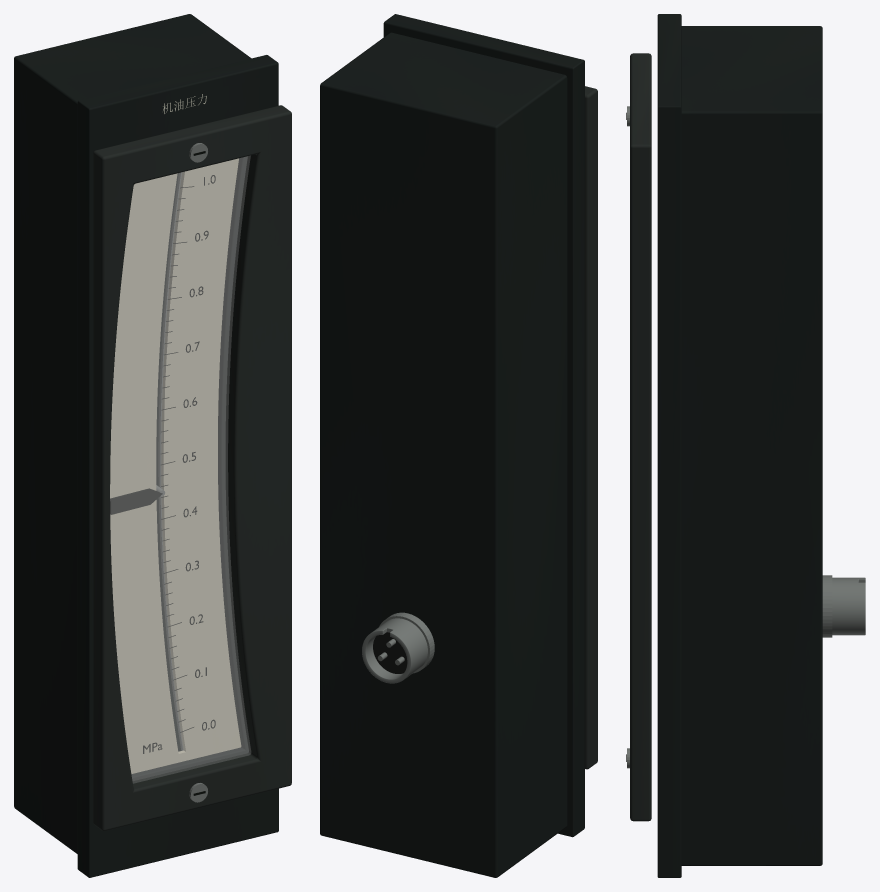
Rendered from oil_pressure_gauge_final.glb.
3 renders of one model, left to right at view 1: azimuth 30°, elevation 25°; view 2: azimuth 150°, elevation 25°; view 3: azimuth 270°, elevation 25°, orthographic.
Visible parts, largest first — view 1: Fixed_Protective_Glass, Fixed_Raised_Metal_Bezel, Fixed_Rear_Housing, Fixed_Scale_Window, Fixed_Front_Frame, Fixed_Curved_Guide_Rail.001, RPM_Reading_Head; view 2: Fixed_Rear_Housing, Fixed_Front_Frame, Fixed_Raised_Metal_Bezel, RPM_Connector_Shell, RPM_Recessed_Contact_Insert, RPM_Rear_Connector_Seat; view 3: Fixed_Rear_Housing, Fixed_Front_Frame, Fixed_Raised_Metal_Bezel, RPM_Connector_Shell, RPM_Rear_Connector_Seat.
Part boxes in pixels (x1,y1,x2,y2): Fixed_Protective_Glass: [110, 156, 250, 783]; Fixed_Raised_Metal_Bezel: [93, 105, 291, 830]; Fixed_Rear_Housing: [14, 14, 251, 853]; Fixed_Scale_Window: [110, 158, 241, 773]; Fixed_Front_Frame: [77, 55, 278, 877]; Fixed_Curved_Guide_Rail.001: [158, 172, 183, 750]; RPM_Reading_Head: [110, 488, 162, 514]; Fixed_Rear_Housing: [320, 32, 567, 877]; Fixed_Front_Frame: [383, 14, 584, 837]; Fixed_Raised_Metal_Bezel: [585, 86, 597, 769]; RPM_Connector_Shell: [362, 618, 427, 683]; RPM_Recessed_Contact_Insert: [373, 632, 407, 673]; RPM_Rear_Connector_Seat: [379, 612, 434, 673]; Fixed_Rear_Housing: [681, 26, 822, 865]; Fixed_Front_Frame: [657, 14, 681, 877]; Fixed_Raised_Metal_Bezel: [630, 53, 651, 821]; RPM_Connector_Shell: [832, 577, 865, 635]; RPM_Rear_Connector_Seat: [822, 575, 832, 637].
Size of the model in its own units: 0.046 by 0.178 by 0.0501.
9 materials, 3 textured.
